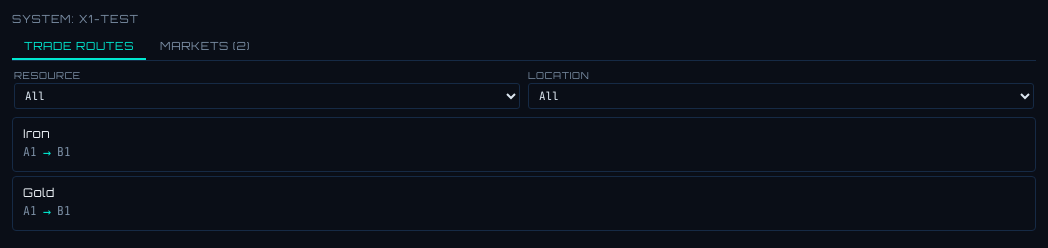
it: TradeRoutesWindow › filters routes by resource
The width and height of the screenshot is (1048, 248).
Check: the text with class "tr-route-good" reads "Iron", box x1=23 y1=126 x2=50 y2=141
# Apply resource filter
Select "Iron" in the dropdown with class "tr-filter-select" below "Resource" at (267, 96), box x1=14 y1=83 x2=520 y2=109
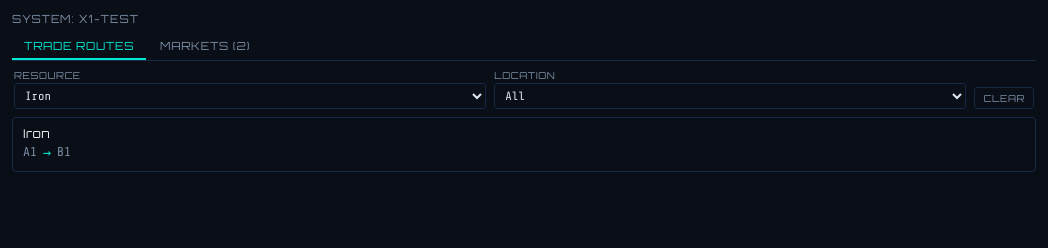
Check: the button "Clear" is shown, box x1=974 y1=87 x2=1034 y2=109
